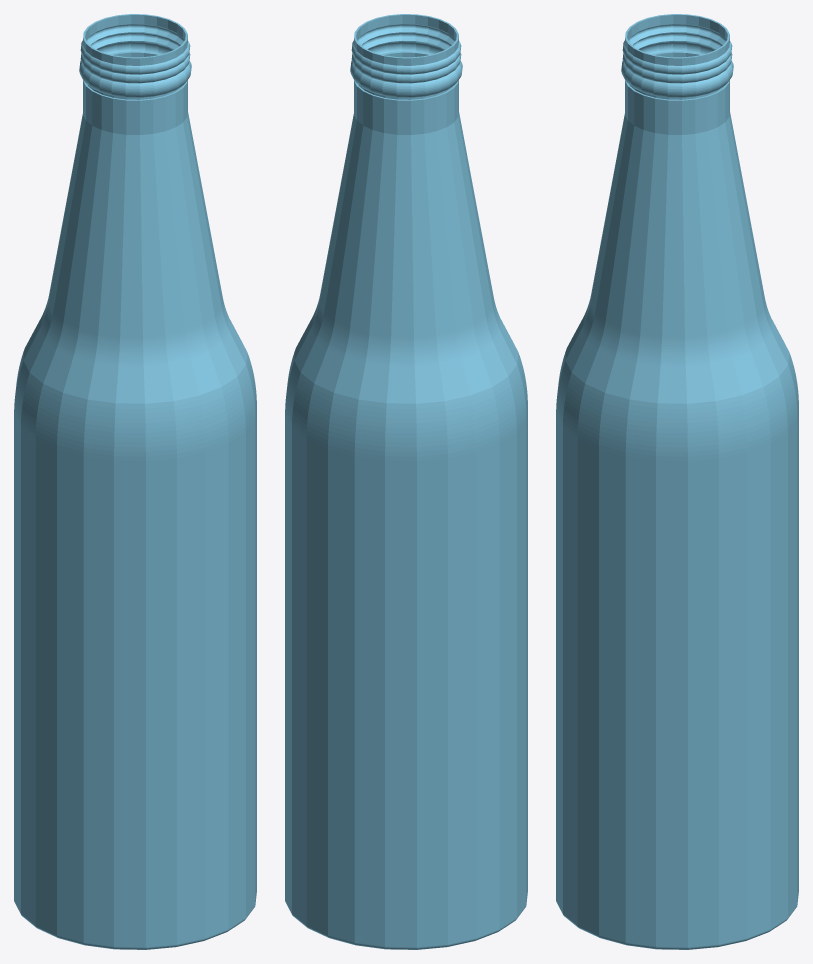
3 renders of one model, left to right at view 1: azimuth 30°, elevation 25°; view 2: azimuth 150°, elevation 25°; view 3: azimuth 270°, elevation 25°, orthographic.
Size of the model in its own units: 0.2396 by 0.9408 by 0.2396.
